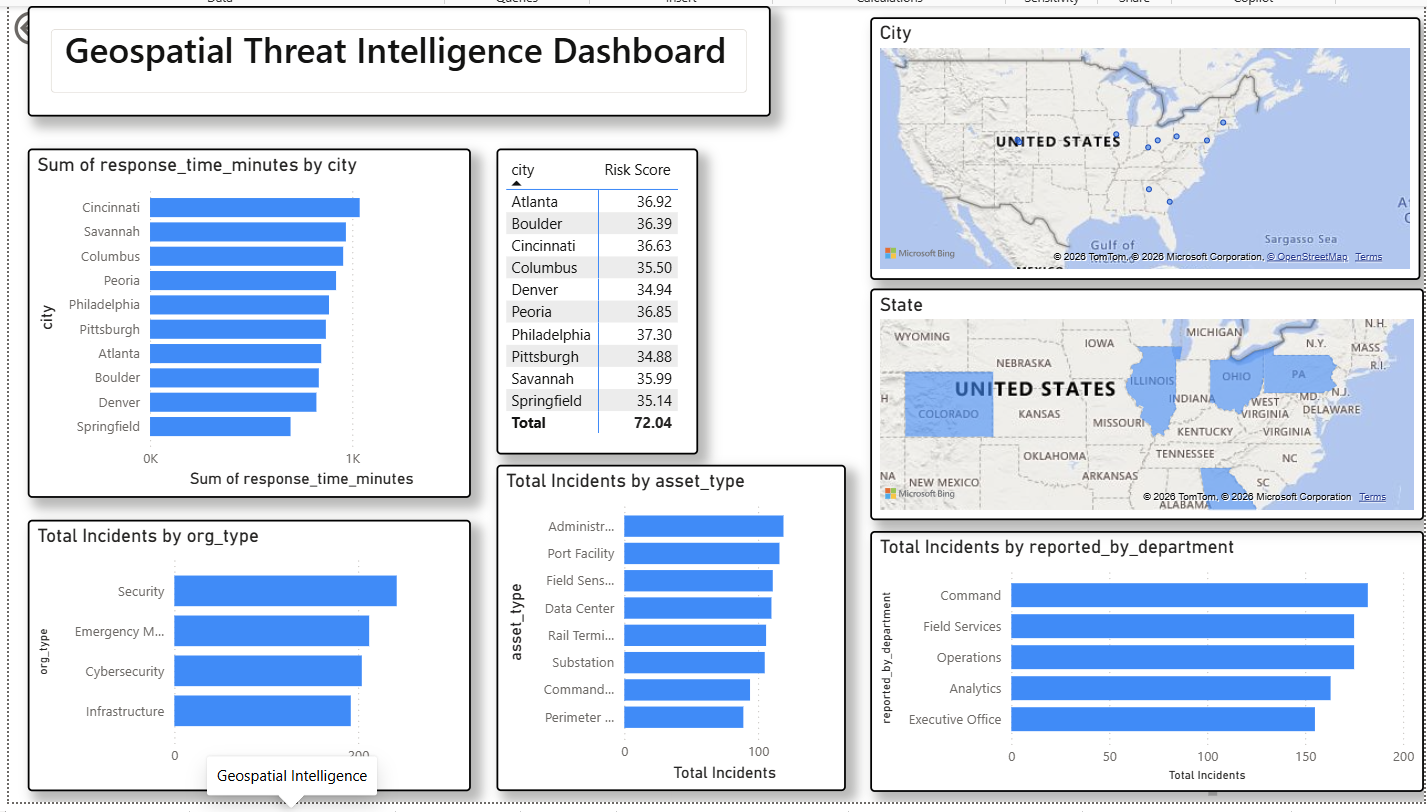

The dashboard page shown, as its layout file describes it:
{"tool":"powerbi","page":{"name":"Geospatial Intelligence","canvas":[1280,720],"ordinal":1},"visuals":[{"type":"textbox","box":[598.8,700,498.8,19.8],"z":0},{"type":"pivotTable","fields":{"Rows":["dim_location.city"],"Values":["_Measures.Risk Score"]},"box":[440.7,129.1,182.6,276.7],"z":1000},{"type":"actionButton","box":[0,0,100,40],"z":2000},{"type":"clusteredBarChart","fields":{"Y":["Sum(fact_response.response_time_minutes)"],"Category":["dim_location.city"]},"box":[17.4,129.1,401.2,316.3],"z":3000},{"type":"barChart","fields":{"Y":["_Measures.Total Incidents"],"Category":["dim_organization.org_type"]},"box":[17.4,465.1,401.2,245.3],"z":4000},{"type":"barChart","fields":{"Y":["_Measures.Total Incidents"],"Category":["fact_incident.asset_type"]},"box":[440.7,415.1,316.3,295.3],"z":5000},{"type":"barChart","box":[915,486,168,201],"z":6000},{"type":"barChart","fields":{"Category":["fact_response.reported_by_department"],"Y":["_Measures.Total Incidents"]},"box":[779.1,474.4,501.2,236],"z":7000},{"type":"map","fields":{"Category":["dim_location.city"]},"box":[779.1,10.5,497.7,237.2],"z":8000},{"type":"filledMap","fields":{"Category":["dim_location.state"]},"box":[779.1,255.8,501.2,209.3],"z":9000},{"type":"cardVisual","fields":{"Data":["_Measures.Dashboard Title"]},"box":[17.4,0,672.1,100],"z":10000}]}

Visuals, with their boxes in screenshot pixels (x1, y1, x2, y2):
textbox: (left=666, top=773, right=1214, bottom=795)
pivotTable - dim_location.city x _Measures.Risk Score: (left=492, top=146, right=693, bottom=450)
actionButton: (left=7, top=4, right=117, bottom=48)
clusteredBarChart - Sum(fact_response.response_time_minutes) x dim_location.city: (left=27, top=146, right=468, bottom=493)
barChart - _Measures.Total Incidents x dim_organization.org_type: (left=27, top=515, right=468, bottom=785)
barChart - _Measures.Total Incidents x fact_incident.asset_type: (left=492, top=460, right=840, bottom=785)
barChart: (left=1013, top=538, right=1198, bottom=759)
barChart - fact_response.reported_by_department x _Measures.Total Incidents: (left=864, top=525, right=1415, bottom=785)
map - dim_location.city: (left=864, top=15, right=1411, bottom=276)
filledMap - dim_location.state: (left=864, top=285, right=1415, bottom=515)
cardVisual - _Measures.Dashboard Title: (left=27, top=4, right=765, bottom=114)
